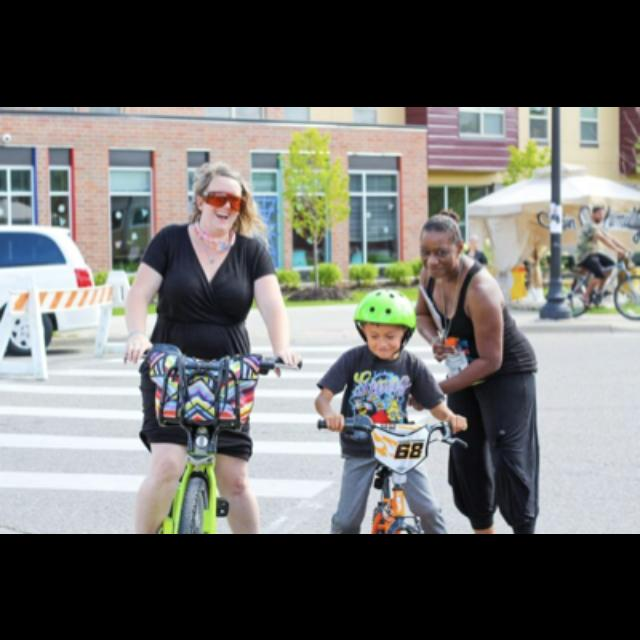With Helmet: (350, 280, 420, 362)
Without Helmet: (189, 158, 251, 234), (420, 208, 464, 278)
